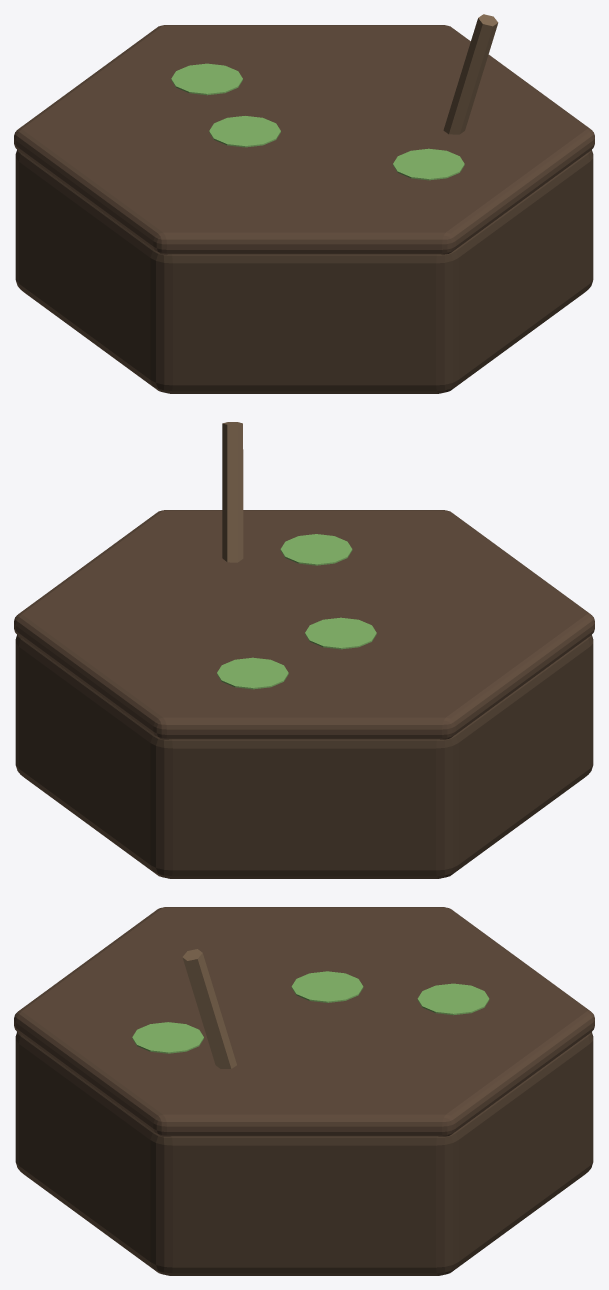
The model's file is hex_water.glb.
3 views of the same model, one above another, from view 1: azimuth 30°, elevation 25°; view 2: azimuth 150°, elevation 25°; view 3: azimuth 270°, elevation 25° (orthographic).
Visible parts, largest first — view 1: hex_water; view 2: hex_water; view 3: hex_water.
Part boxes in pixels (left/top/right/bottom): hex_water: left=14, top=14, right=594, bottom=393; hex_water: left=14, top=422, right=594, bottom=878; hex_water: left=14, top=907, right=594, bottom=1275.
Size of the model in its own units: 1.7 by 1.05 by 1.94.
